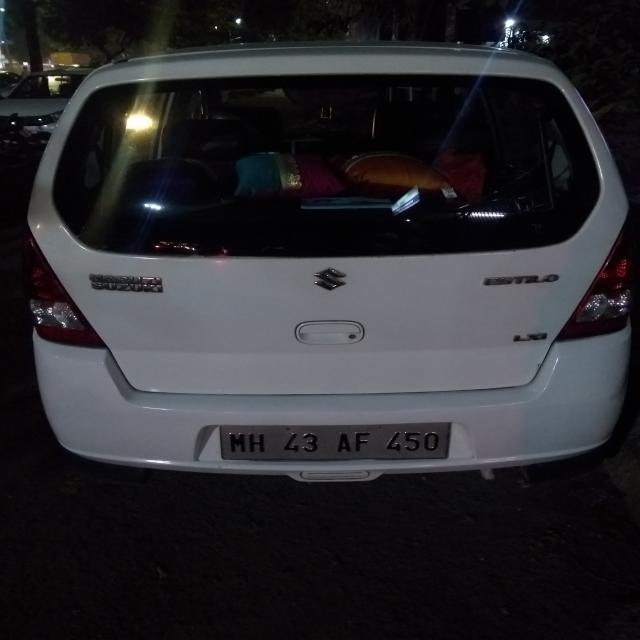Number-Plate: (210, 426, 452, 464)
